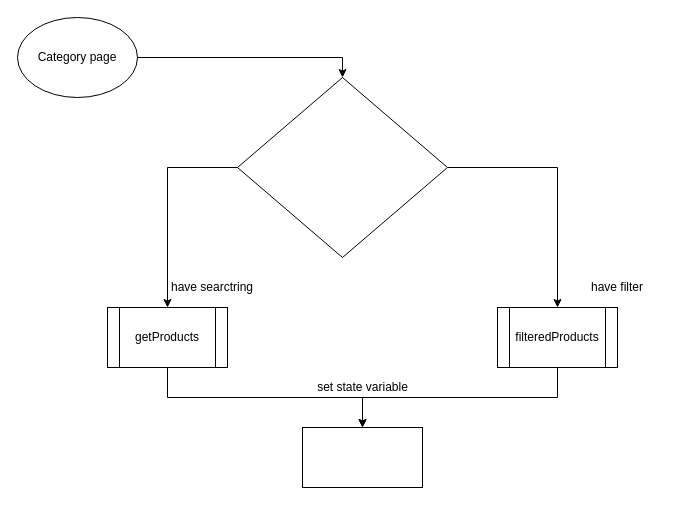
This 685x505 diagram has some shape labels left out. Each missing label, with the centre of its shape:
check if searchString or filters ?: (x=342, y=167)
productList: (x=362, y=457)
